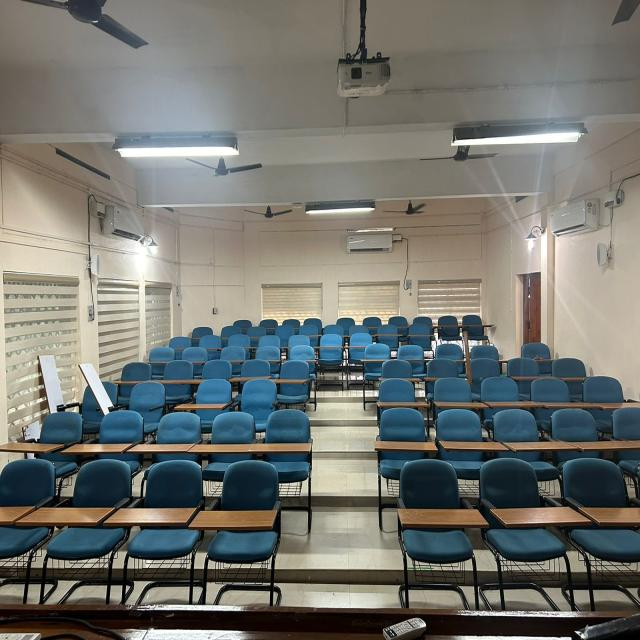chair ahead at: (212, 457, 284, 600), (474, 459, 558, 569), (398, 458, 470, 576), (564, 459, 640, 563), (54, 459, 127, 563), (132, 463, 202, 571), (377, 410, 432, 467), (491, 408, 550, 457), (550, 406, 604, 452), (264, 406, 312, 453), (90, 410, 146, 450), (442, 413, 490, 459), (155, 413, 200, 453), (208, 413, 258, 448), (40, 408, 81, 450), (315, 331, 345, 370)
step ahead at: (294, 566, 390, 583), (312, 491, 378, 509), (319, 447, 375, 461)
